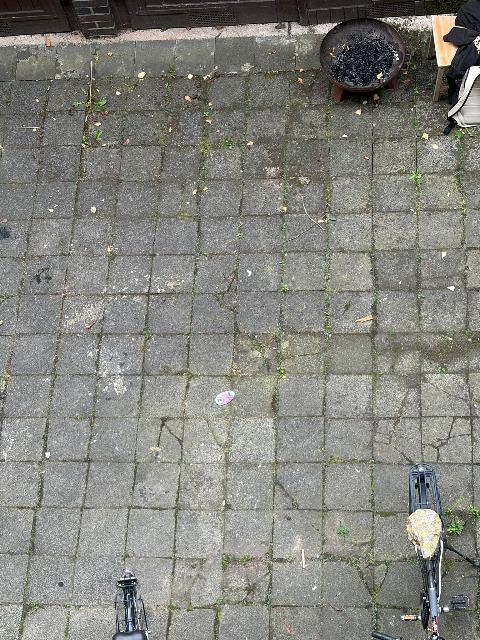can: (215, 391, 235, 406)
